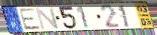1: (117, 4, 132, 28), (76, 5, 91, 29)
2: (100, 4, 123, 30)
5: (57, 5, 79, 30)
E: (17, 7, 42, 31)
N: (35, 7, 61, 31)
